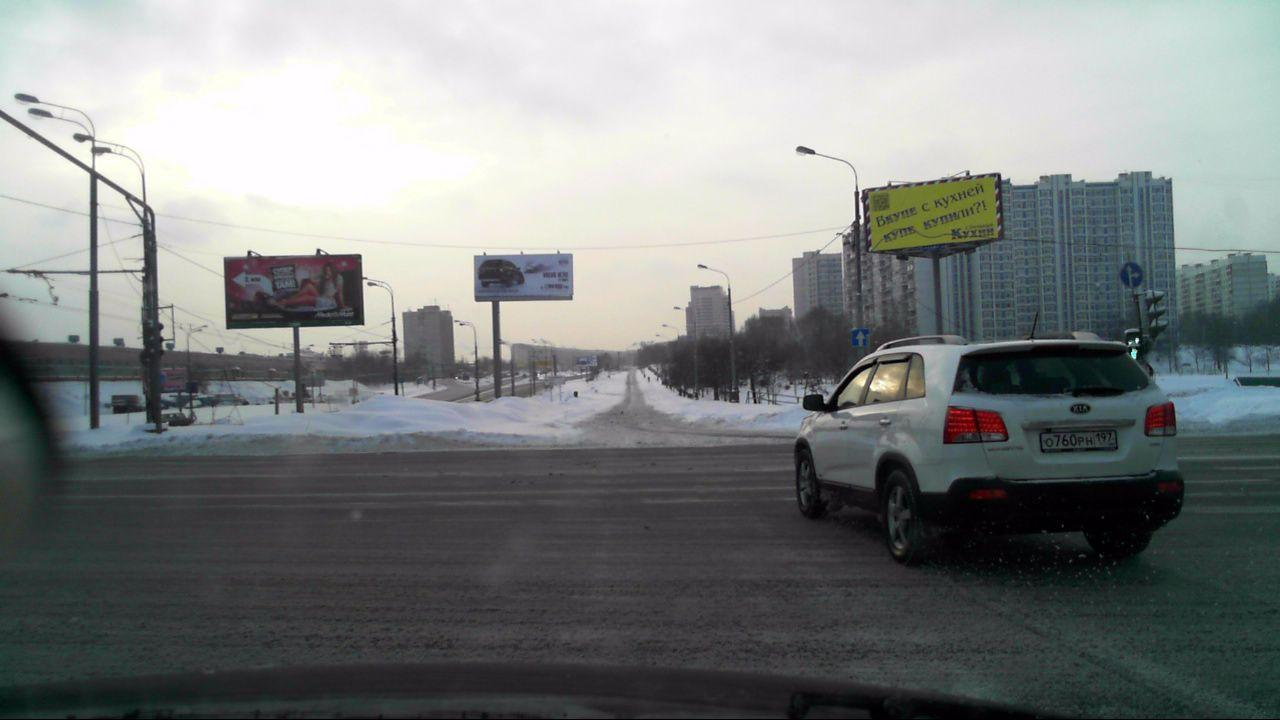road_sign: (1120, 262, 1143, 290), (850, 328, 870, 349)
